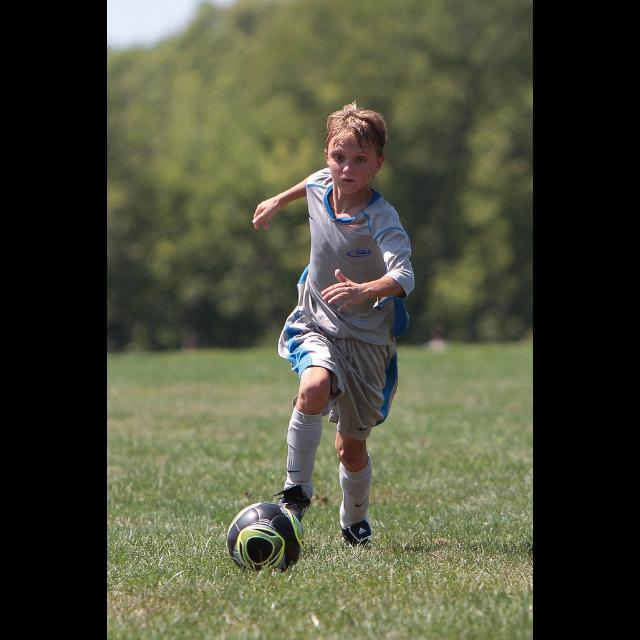Football: (225, 502, 303, 572)
